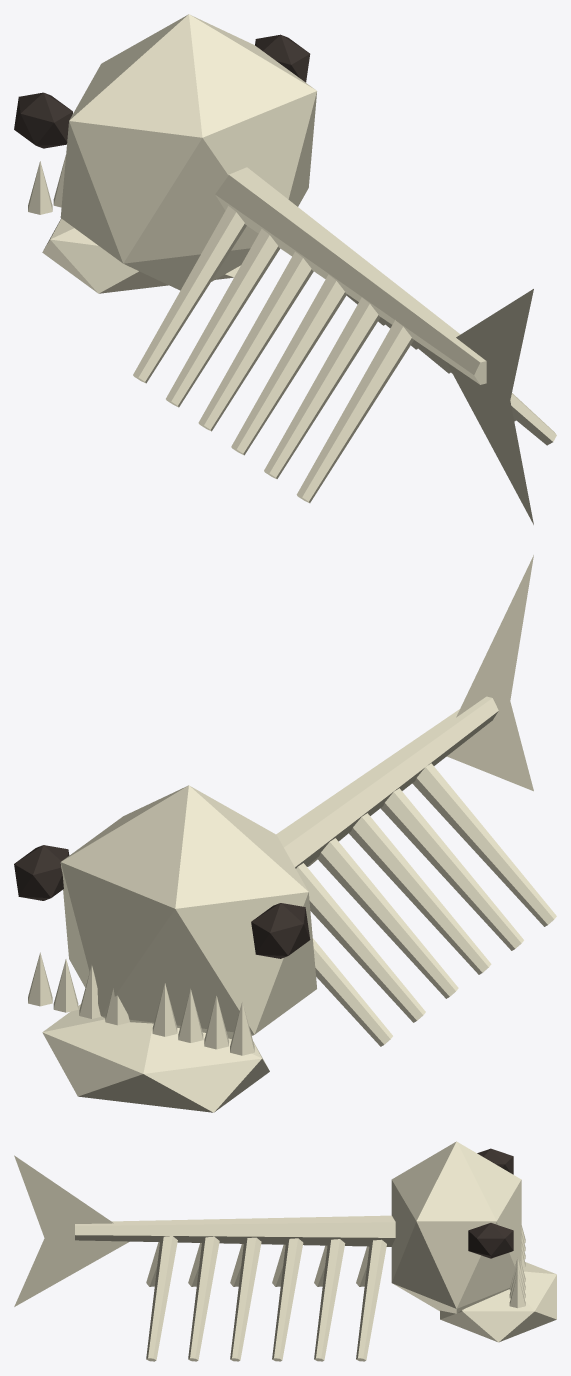
The model's file is PiranhaSkeleton.fbx.
The picture shows the model from 3 angles, top to bottom: view 1: azimuth 30°, elevation 25°; view 2: azimuth 150°, elevation 25°; view 3: azimuth 270°, elevation 25°; orthographic projection. The views are drawn at different scales.
Visible parts, largest first — view 1: Head, Spine, TailFin, Rib1_5, Rib1_4, Rib1_3, Rib1_2, Rib1_1, Rib1_0, JawMesh, Eye1, Eye-1 (+2 smaller); view 2: Head, JawMesh, Spine, TailFin, Rib1_5, Rib1_4, Rib1_3, Rib1_2, Rib1_1, Eye1, Eye-1, Rib1_0 (+7 smaller); view 3: Head, Spine, TailFin, JawMesh, Rib-1_5, Rib-1_4, Rib-1_3, Rib-1_2, Rib-1_1, Rib-1_0, Eye-1, Eye1 (+1 smaller).
Boxes of the visible parts, x1,y1,x2,y2 form: Head: (60,14,316,290); Spine: (215,167,486,384); TailFin: (446,289,533,524); Rib1_5: (296,320,413,503); Rib1_4: (264,297,380,478); Rib1_3: (231,274,346,455); Rib1_2: (198,251,313,431); Rib1_1: (166,229,280,407); Rib1_0: (133,206,246,383); JawMesh: (42,218,240,293); Eye1: (14,92,72,148); Eye-1: (255,34,310,82); Head: (60,785,316,1039); JawMesh: (42,1004,269,1112); Spine: (276,696,498,868); TailFin: (447,555,533,791); Rib1_5: (412,763,556,926); Rib1_4: (380,788,523,950); Rib1_3: (348,813,491,974); Rib1_2: (317,838,458,998); Rib1_1: (296,863,425,1022); Eye1: (251,903,310,958); Eye-1: (14,845,69,900); Rib1_0: (312,938,392,1046); Head: (391,1141,521,1313); Spine: (75,1215,395,1246); TailFin: (14,1155,129,1306); JawMesh: (440,1262,556,1342); Rib-1_5: (146,1235,177,1361); Rib-1_4: (188,1236,219,1361); Rib-1_3: (230,1237,261,1361); Rib-1_2: (272,1238,303,1361); Rib-1_1: (314,1239,345,1361); Rib-1_0: (356,1239,386,1361); Eye-1: (468,1223,513,1258); Eye1: (477,1148,513,1174).
Bounding box in the file's own units: 1.1 × 1.06 × 2.85.
